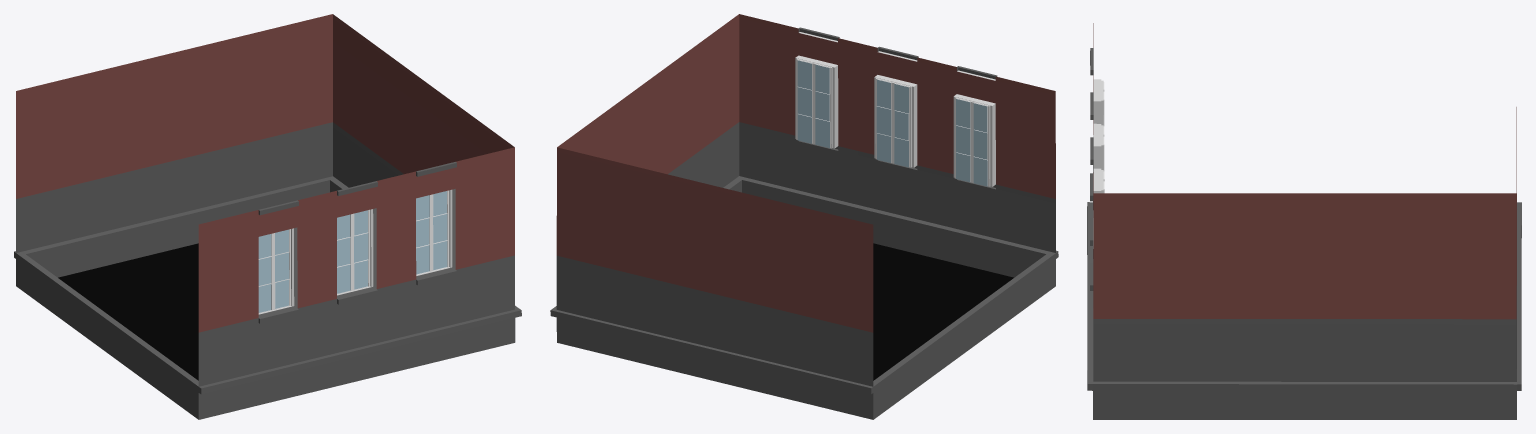
The model's file is House_foundation_variation.fbx.
3 renders of one model, left to right at view 1: azimuth 30°, elevation 25°; view 2: azimuth 150°, elevation 25°; view 3: azimuth 270°, elevation 25°, orthographic. The views are drawn at different scales.
Visible parts, largest first — view 1: Cube; view 2: Cube; view 3: Cube.
Part boxes in pixels (<box>): Cube: <box>14,14,521,419</box>; Cube: <box>550,14,1058,419</box>; Cube: <box>1087,23,1521,419</box>.
Bounding box in the file's own units: 2028 × 1179 × 2050.
